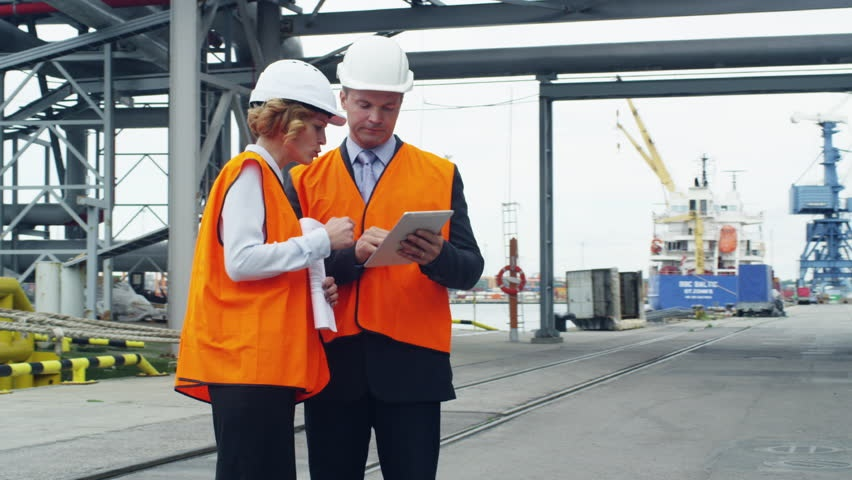helmet: (243, 57, 347, 126), (334, 37, 418, 96)
person with full safety: (311, 42, 467, 480), (179, 49, 330, 480)
safety vest: (295, 147, 467, 360), (181, 154, 325, 392)
